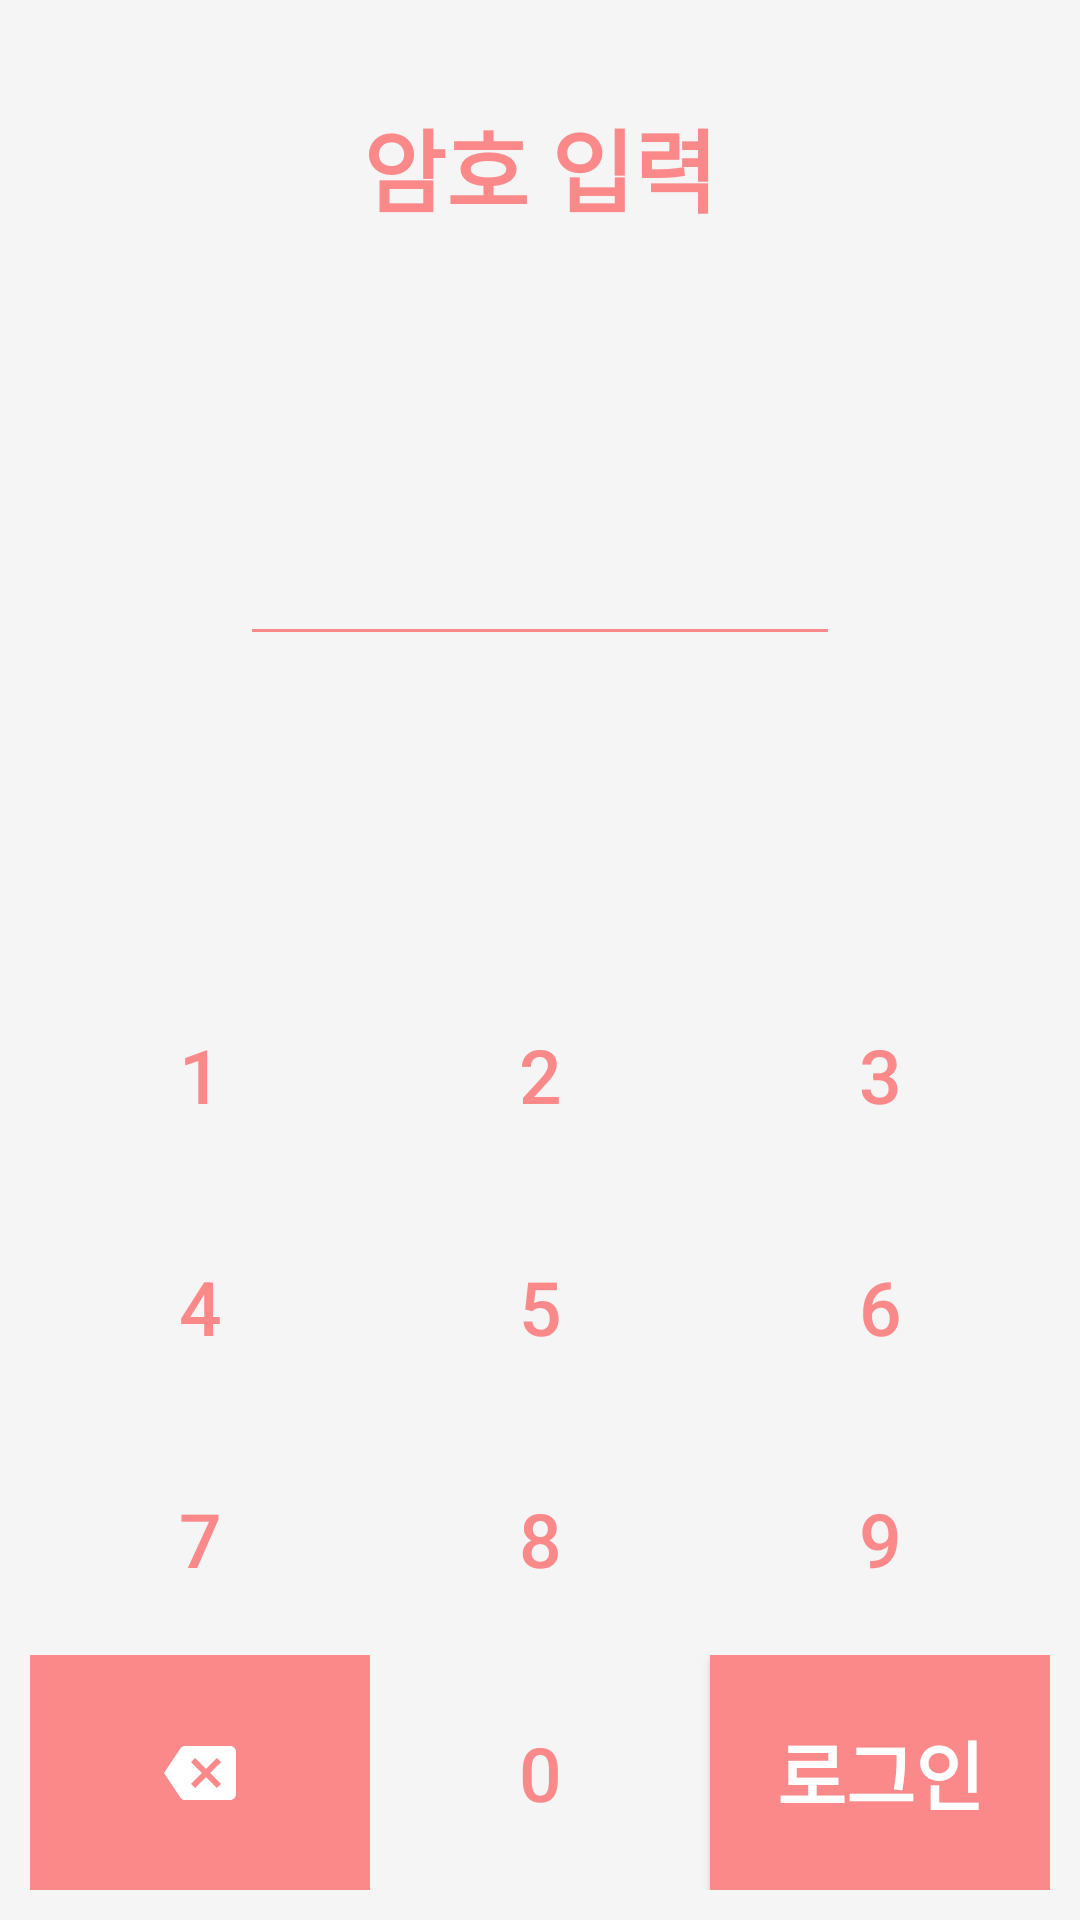

Icons on this 1080 x 1920 Android screen, each with its box as (x1, y1, x2, y2):
backspace: (30, 1655, 370, 1890)
